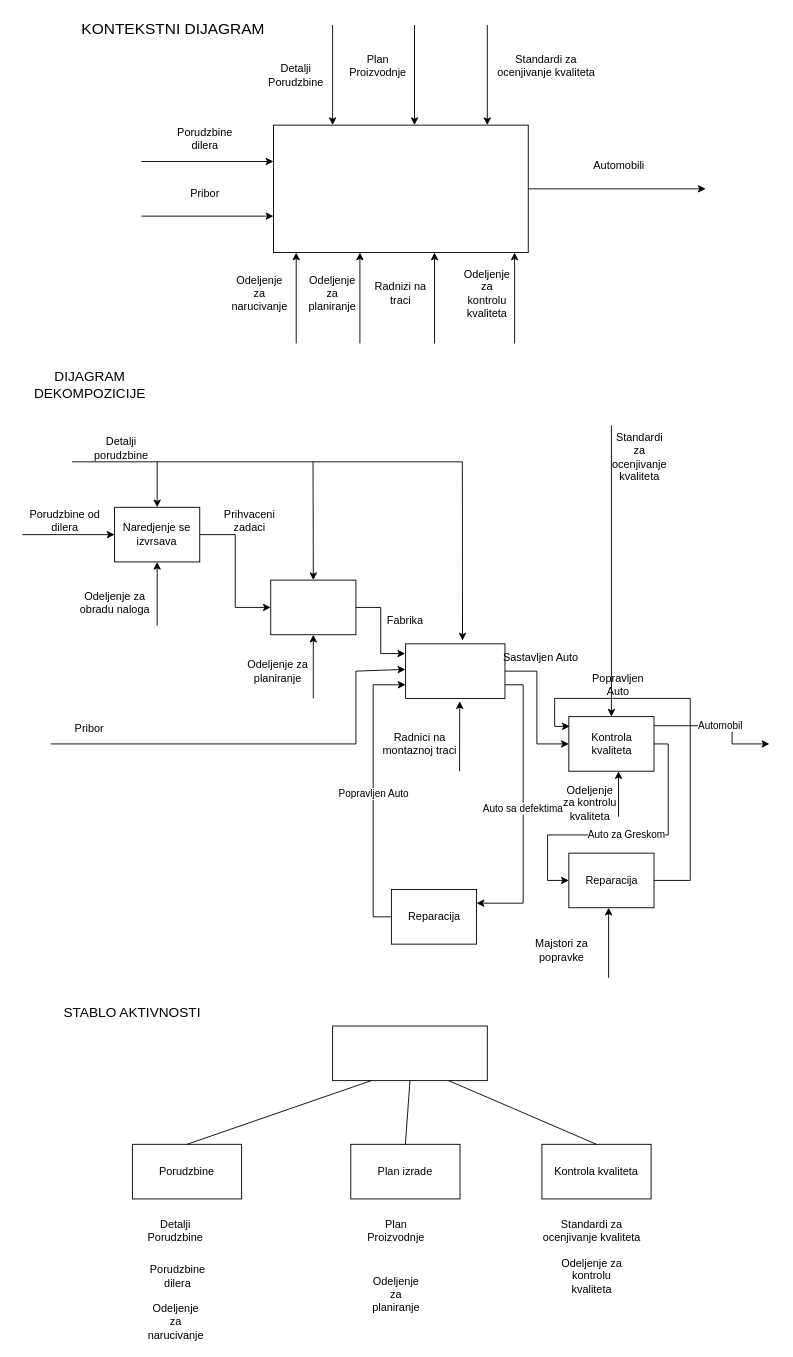
Image size: 793x1357. Some labels were removed from this diagram. Here are the shapes that lost their labels. From the top down, the centre of each, then its label:
At point (400, 188): "PROIZVODNJA AUTOMOBILA".
At point (313, 607): "Izrada plana proizvodnje".
At point (455, 670): "Montaza Automobila".
At point (409, 1053): "Upravljanje Fabrikom Automobila".
